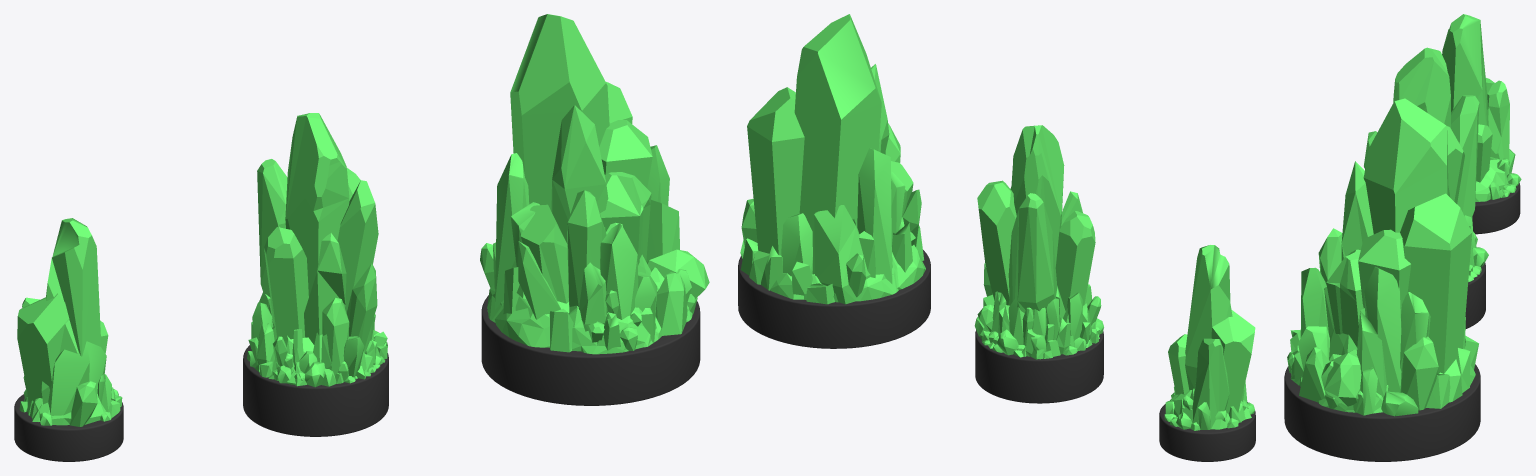
The model's file is Crystals.glb.
3 views of the same model, side by side, from view 1: azimuth 30°, elevation 25°; view 2: azimuth 150°, elevation 25°; view 3: azimuth 270°, elevation 25° (orthographic). The views are drawn at different scales.
Parts seen in each view (by area): view 1: 3DSMeshMatrix (×34); view 2: 3DSMeshMatrix (×29); view 3: 3DSMeshMatrix (×32).
Boxes of the visible parts, x1,y1,x2,y2 form: 3DSMeshMatrix (×34): (14,14,709,461); 3DSMeshMatrix (×29): (738,14,1255,461); 3DSMeshMatrix (×32): (1284,14,1520,461).
Bounding box in the file's own units: 7.7 × 4.11 × 2.85.
